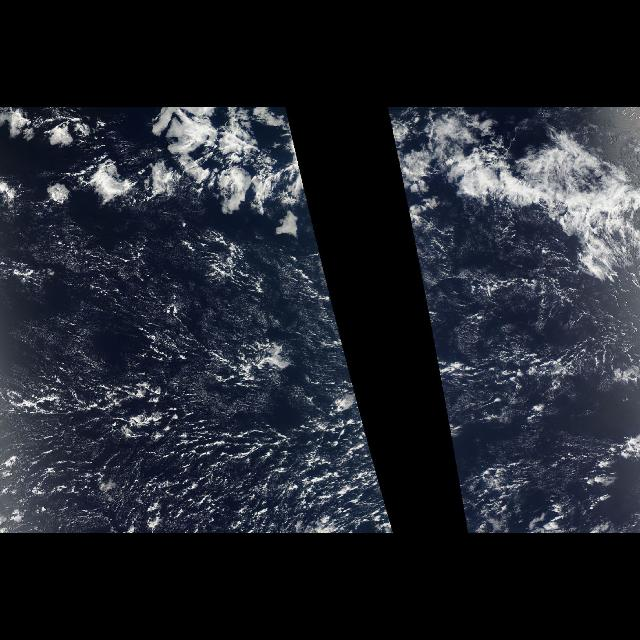Fish: (395, 116, 639, 280), (53, 156, 320, 242)
Flower: (3, 108, 319, 248)
Gravel: (12, 338, 362, 532)
Sugar: (15, 224, 395, 534), (422, 187, 640, 533)
